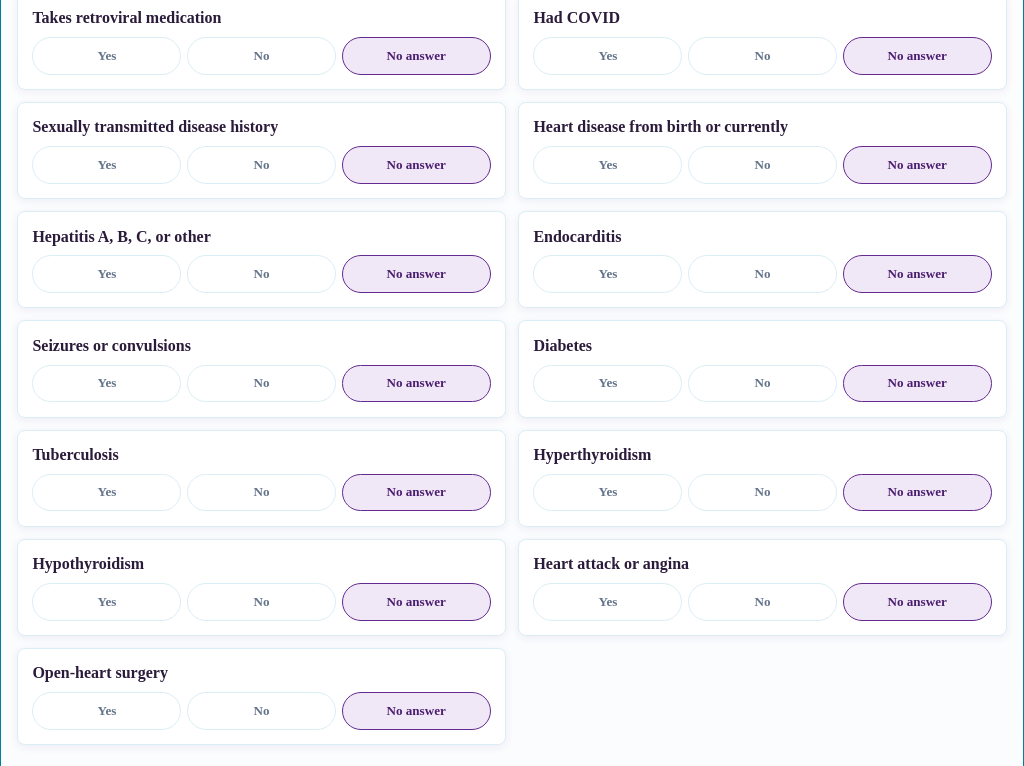
Test case: ClinicalMedicalQuestionnaireFormComponent › shows visible Yes, No, and No answer options and reveals details when answer is Yes
(page scrolled)
expect the radio button with id "medical-questionnaire-answer-diabetes-no" is shown: met, box [688,365,837,402]
expect the radio button with id "medical-questionnaire-answer-diabetes-unknown" is checked: met, box [843,365,992,402]
Click the radio button with id "medical-questionnaire-answer-diabetes-yes" at (608, 383), box [533,365,682,402]
(page scrolled)
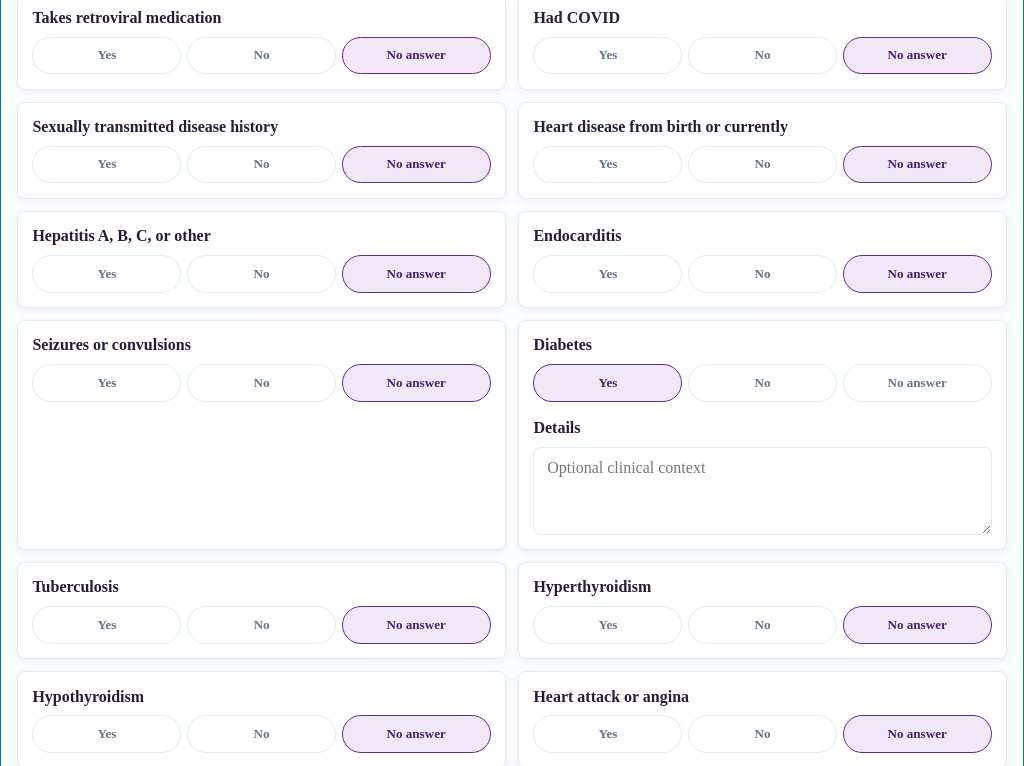
expect the text box with id "medical-questionnaire-details-diabetes" is shown: met, box [533,447,992,535]
Click the radio button with id "medical-questionnaire-answer-diabetes-no" at (762, 383), box [688,364,837,402]
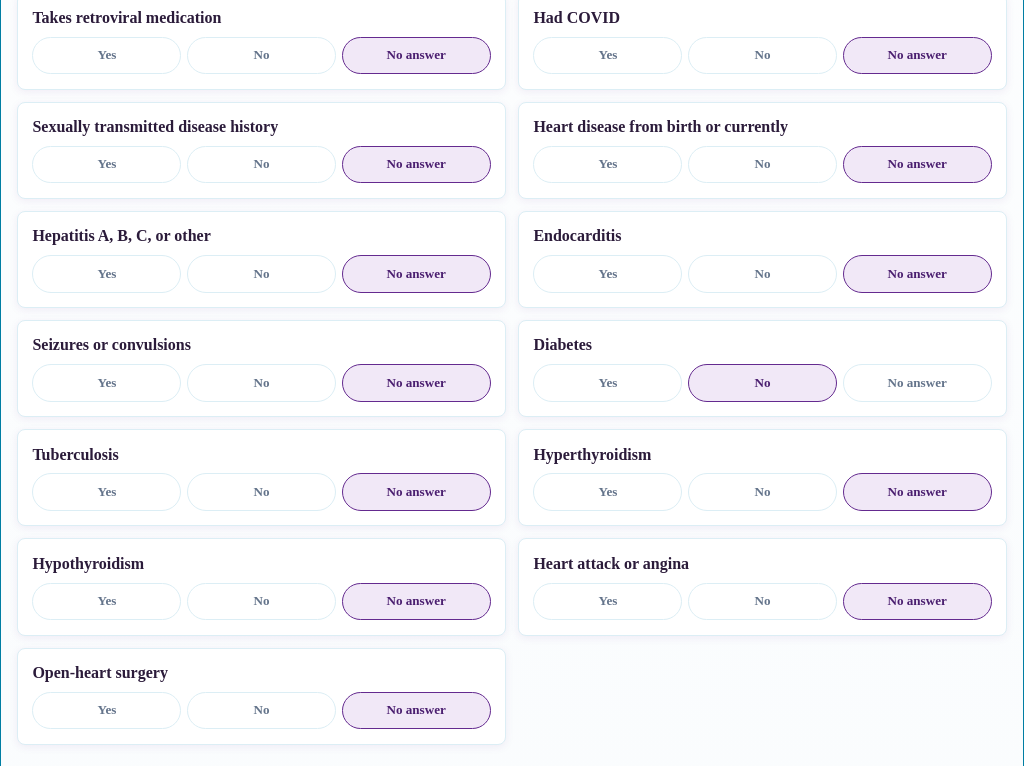
expect the text box with id "medical-questionnaire-details-diabetes" is gone: met
